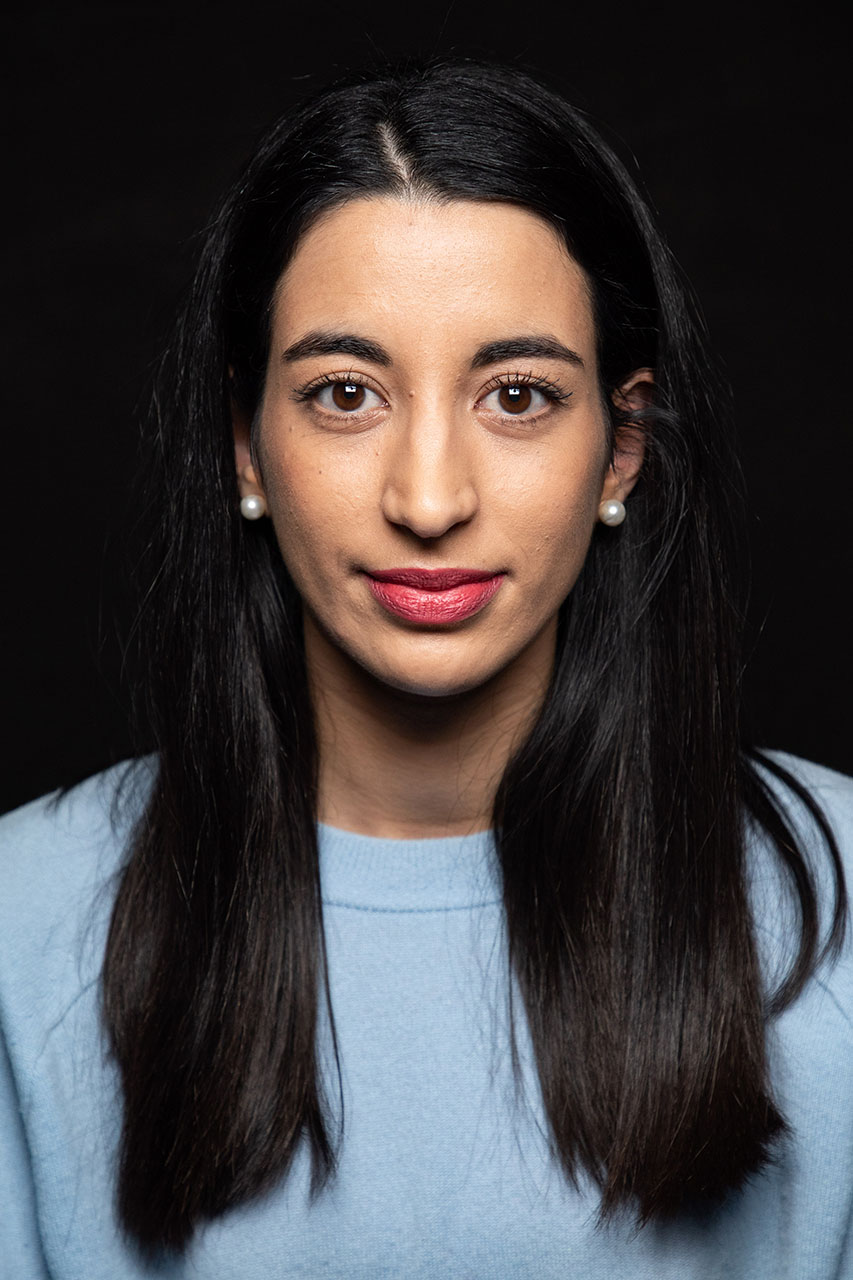Without Helmet: (139, 47, 749, 718)
